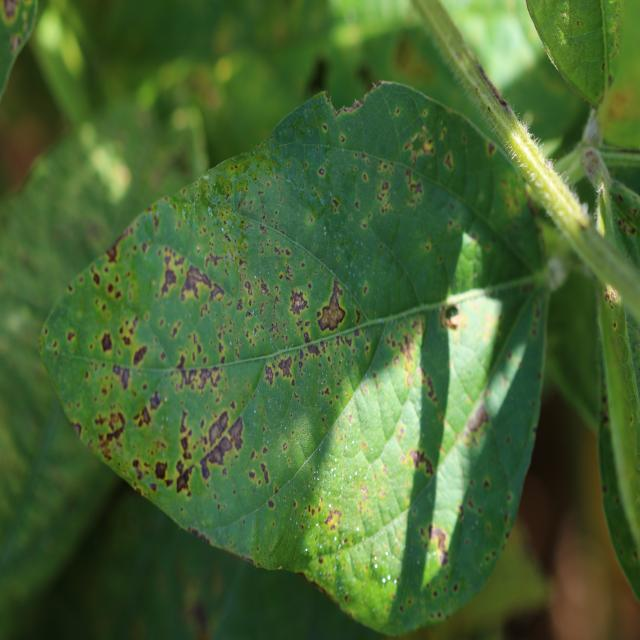Bacterial_Blight: (313, 267, 353, 361), (383, 319, 422, 379), (394, 33, 435, 84), (95, 410, 129, 461), (180, 263, 220, 303), (474, 61, 507, 109), (175, 363, 225, 394), (373, 169, 401, 216), (132, 391, 163, 430), (405, 128, 436, 167), (307, 56, 330, 96), (335, 90, 370, 115), (466, 401, 490, 436), (408, 448, 435, 479), (208, 410, 230, 445), (428, 525, 449, 560), (159, 261, 179, 297), (175, 462, 195, 494), (212, 174, 235, 201), (105, 233, 125, 263), (227, 415, 244, 450), (112, 363, 132, 390), (405, 168, 422, 198), (289, 290, 308, 316), (206, 442, 225, 467), (276, 355, 293, 381), (324, 507, 342, 530), (445, 304, 460, 324), (133, 345, 147, 366), (527, 196, 540, 218), (154, 460, 168, 480), (100, 332, 113, 353), (260, 462, 270, 485), (264, 364, 274, 386), (444, 152, 454, 170), (244, 280, 253, 297), (487, 140, 496, 157), (260, 281, 269, 296), (331, 197, 340, 212), (67, 330, 76, 342), (483, 479, 491, 490), (268, 499, 274, 509), (362, 172, 368, 182), (318, 168, 325, 176), (318, 556, 324, 565), (354, 201, 360, 210), (322, 123, 328, 132)
Soybean: (40, 82, 548, 639)
